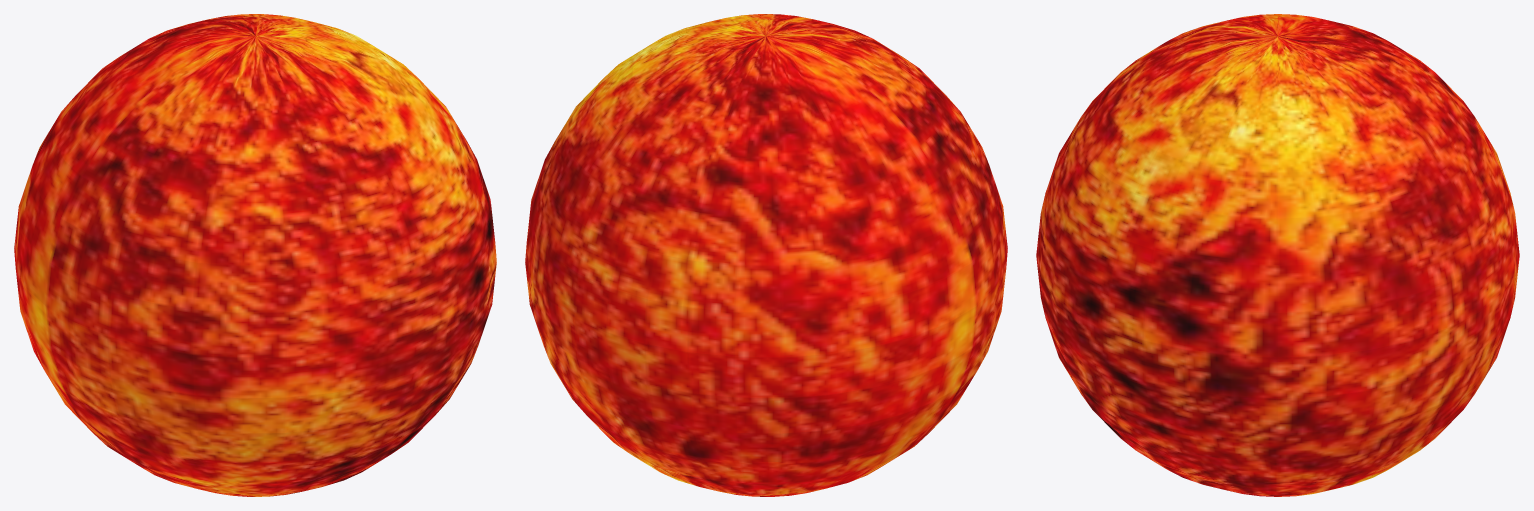
File: betelgeuse.glb
3 renders of one model, left to right at view 1: azimuth 30°, elevation 25°; view 2: azimuth 150°, elevation 25°; view 3: azimuth 270°, elevation 25°, orthographic.
Parts seen in each view (by area): view 1: Object_2; view 2: Object_2; view 3: Object_2.
Boxes of the visible parts, box(x1,y1,x2,y2) form: Object_2: box(14, 14, 496, 496); Object_2: box(525, 14, 1007, 496); Object_2: box(1036, 14, 1519, 496).
Size of the model in its own units: 45.41 by 45.41 by 45.41.
1 material, 1 textured.
